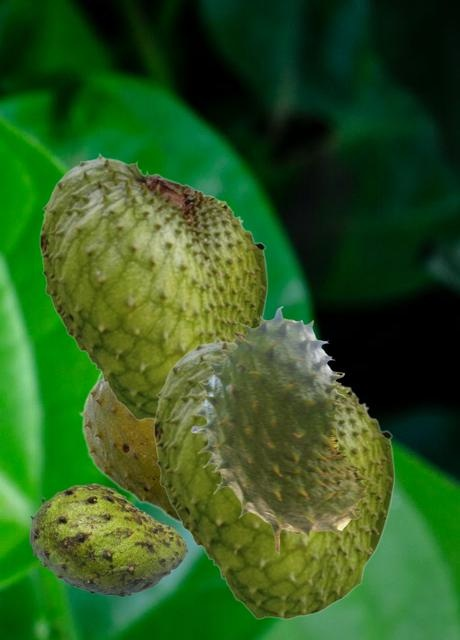guyabano: (153, 335, 394, 619), (39, 152, 267, 420), (191, 306, 368, 553), (28, 483, 187, 596), (78, 371, 180, 524)
